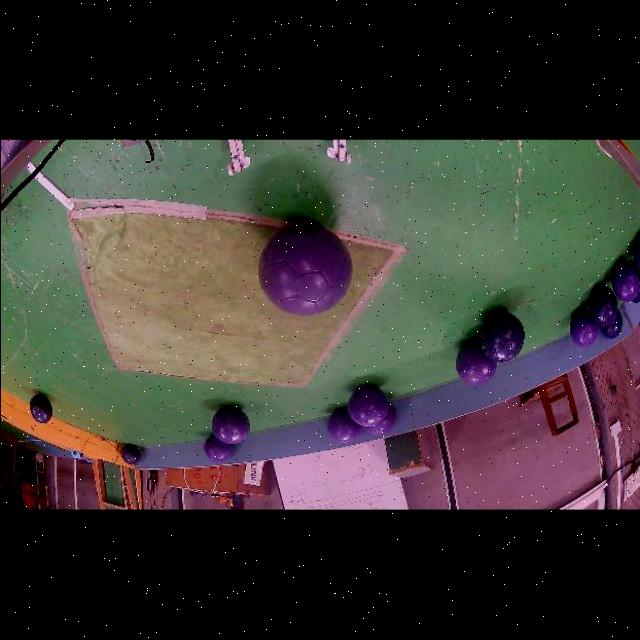B: (479, 312, 524, 363), (588, 285, 616, 326), (29, 394, 52, 423), (600, 312, 621, 339), (120, 444, 139, 465), (630, 266, 640, 303)
P: (257, 223, 351, 315), (456, 340, 497, 386), (346, 385, 389, 426), (211, 406, 248, 444), (326, 408, 360, 443), (610, 261, 638, 301), (569, 310, 598, 348), (363, 403, 395, 435), (203, 435, 232, 462), (633, 236, 640, 273)
